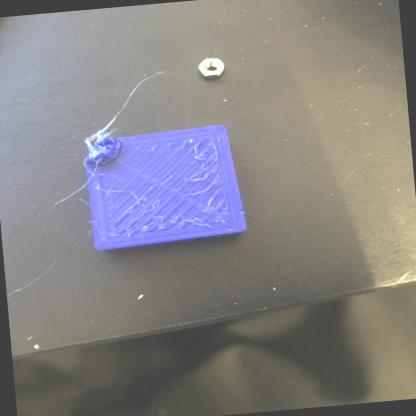fail: (101, 141, 223, 236), (77, 115, 125, 170)
